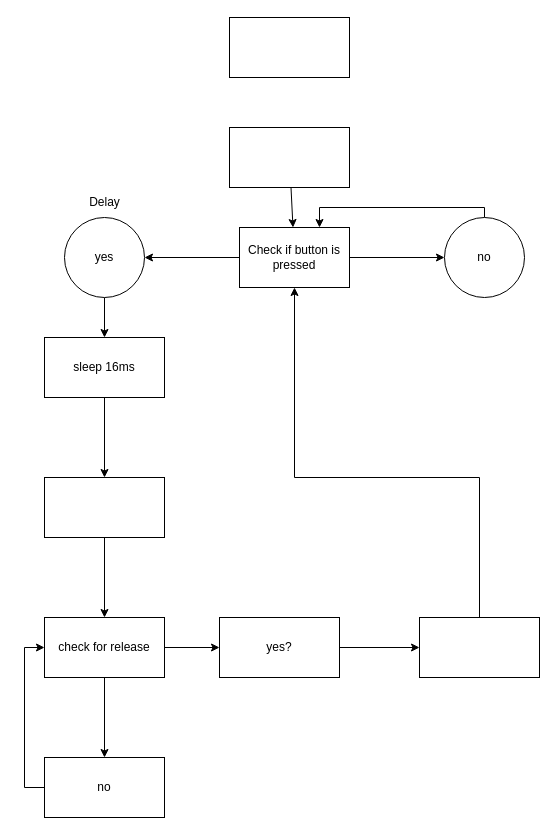
This 557x835 diagram has some shape labels left out. Each missing label, with the centre of its shape:
"delay 16ms" goes at (x=479, y=647).
"increment wreg, sent to portc" goes at (x=104, y=507).
"set counter and delay counter regs and values" goes at (x=289, y=47).
"set up port c and button" goes at (x=289, y=157).
